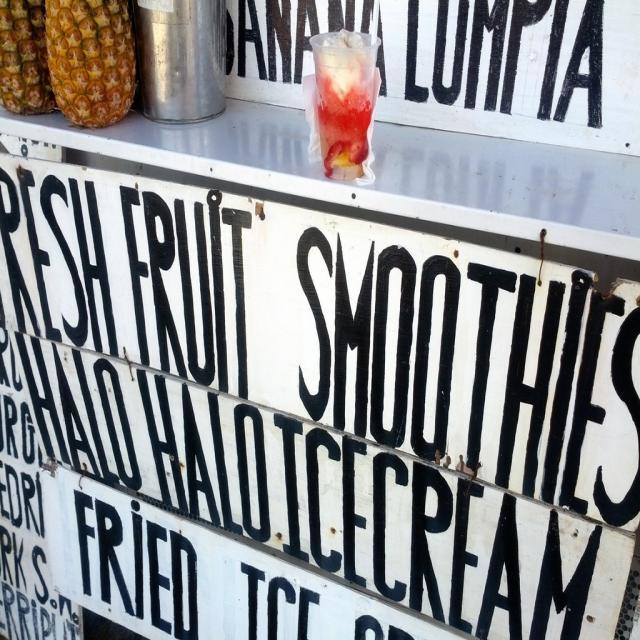Pineapple: (40, 0, 134, 126), (0, 0, 52, 115)
